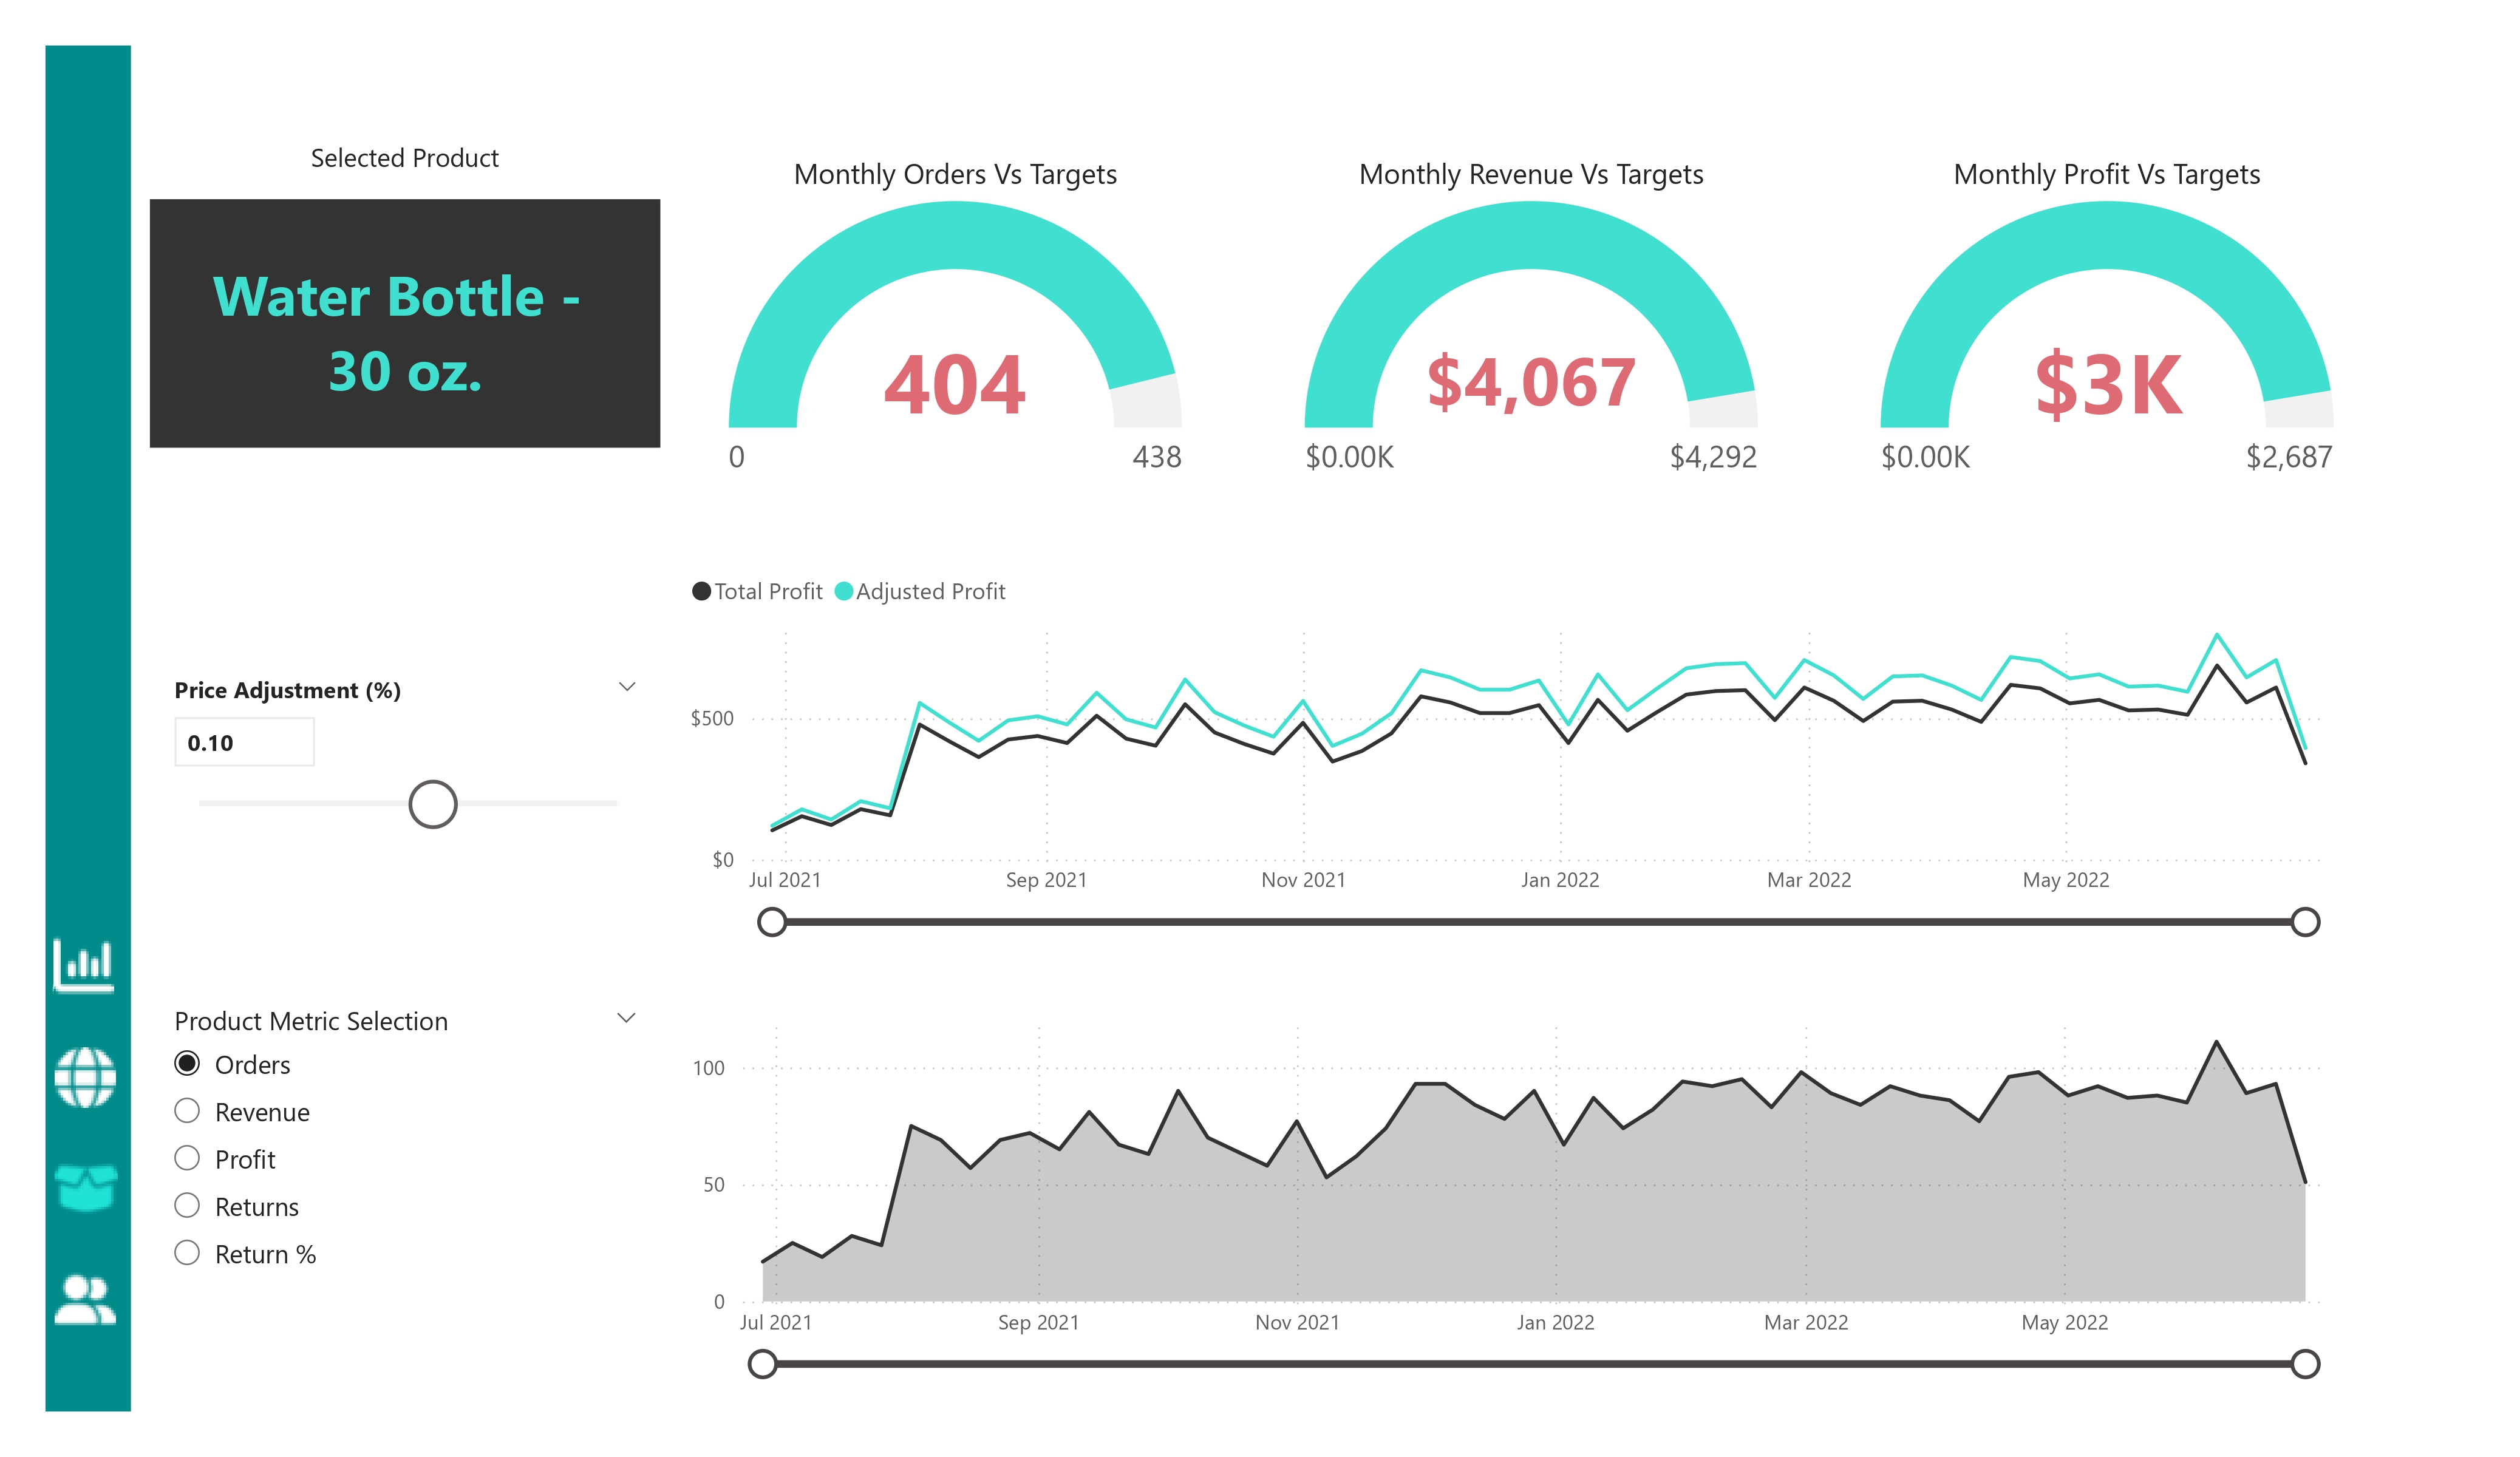

The dashboard page shown, as its layout file describes it:
{"tool":"powerbi","page":{"name":"Product Detail","canvas":[1280,720],"ordinal":2},"visuals":[{"type":"shape","box":[0,0,45,720.2],"z":0},{"type":"actionButton","box":[0,464.7,45.2,40.4],"z":0,"group":"g1"},{"type":"gauge","title":"Monthly Orders Vs Targets","fields":{"Y":["Measure Table.Total No: of Orders"],"MaxValue":["Measure Table.Order Target"]},"box":[345.6,56.9,267.4,180.6],"z":1000},{"type":"actionButton","box":[1.2,523.4,45.2,40.4],"z":1000,"group":"g1"},{"type":"gauge","title":"Monthly Revenue Vs Targets","fields":{"Y":["Measure Table.Total Revenue"],"MaxValue":["Measure Table.Revenue Target"]},"box":[649.2,56.9,267.4,180.6],"z":2000},{"type":"actionButton","box":[1.2,582.1,45.2,40.4],"z":2000,"group":"g1"},{"type":"gauge","title":"Monthly Profit Vs Targets","fields":{"Y":["Measure Table.Total Profit"],"MaxValue":["Measure Table.Profit Target"]},"box":[952.9,56.9,267.4,180.6],"z":3000},{"type":"actionButton","box":[1.2,640.5,45.2,40.4],"z":3000,"group":"g1"},{"type":"lineChart","title":"Profit Trending","fields":{"Category":["Calendar Lookup.Date Hierarchy.Start of Year","Calendar Lookup.Date Hierarchy.Start of Month","Calendar Lookup.Date Hierarchy.Start of Week","Calendar Lookup.Date Hierarchy.Date"],"Y":["Measure Table.Total Profit","Measure Table.Adjusted Profit"]},"box":[335.1,267.8,885.3,205.4],"z":4000},{"type":"areaChart","title":"Returns Trending","fields":{"Category":["Calendar Lookup.Date Hierarchy.Start of Year","Calendar Lookup.Date Hierarchy.Start of Month","Calendar Lookup.Date Hierarchy.Start of Week","Calendar Lookup.Date Hierarchy.Date"],"Y":["Measure Table.Total No: of Orders"]},"box":[335.1,500.1,885.3,205.4],"z":5000},{"type":"card","fields":{"Values":["Min(Product Lookup.ProductName)"]},"box":[55,80.7,269,130.8],"z":6000},{"type":"textbox","box":[83.2,45.2,212.8,35.5],"z":7000},{"type":"group","id":"g1","title":"navigation buttons","box":[0,464.7,46.5,216.2],"z":8000},{"type":"slicer","fields":{"Values":["Price Adjustment (%).Price Adjustment (%)"]},"box":[55,326.5,269,127.2],"z":9000},{"type":"slicer","fields":{"Values":["Product Metric Selection.Product Metric Selection"]},"box":[55,500.1,269,174.9],"z":9001}]}

Visuals, with their boxes in screenshot pixels (x1, y1, x2, y2):
shape: 46/46/131/1411
actionButton: 46/927/131/1004
"Monthly Orders Vs Targets" gauge: 701/154/1209/496
actionButton: 48/1039/134/1115
"Monthly Revenue Vs Targets" gauge: 1278/154/1785/496
actionButton: 48/1150/134/1226
"Monthly Profit Vs Targets" gauge: 1854/154/2361/496
actionButton: 48/1261/134/1337
"Profit Trending" lineChart: 681/554/2362/943
"Returns Trending" areaChart: 681/994/2362/1384
card - Min(Product Lookup.ProductName): 150/199/661/447
textbox: 203/131/607/199
"navigation buttons" group: 46/927/134/1337
slicer - Price Adjustment (%).Price Adjustment (%): 150/665/661/906
slicer - Product Metric Selection.Product Metric Selection: 150/994/661/1326
